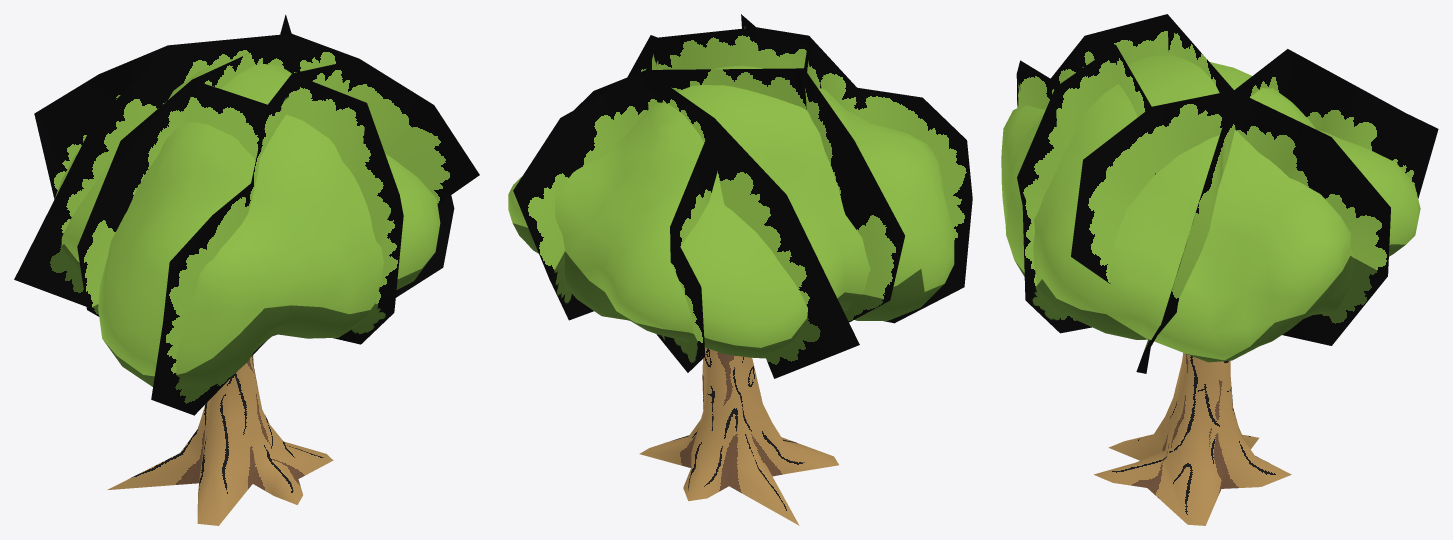
The model's file is TreeLarge.glb.
3 views of the same model, side by side, from view 1: azimuth 30°, elevation 25°; view 2: azimuth 150°, elevation 25°; view 3: azimuth 270°, elevation 25° (orthographic). The views are drawn at different scales.
Visible parts, largest first — view 1: Plane, Cube, Tree Large; view 2: Cube, Plane, Tree Large; view 3: Cube, Plane, Tree Large.
Part boxes in pixels (x1,y1,x2,y2): Plane: (14, 14, 479, 415); Cube: (55, 59, 440, 388); Tree Large: (107, 355, 333, 525); Cube: (508, 65, 954, 358); Plane: (513, 14, 972, 378); Tree Large: (639, 347, 838, 525); Cube: (1001, 55, 1420, 362); Plane: (1016, 14, 1438, 373); Tree Large: (1094, 353, 1291, 525).
Size of the model in its own units: 10.38 by 11.62 by 10.22.
3 materials, 3 textured.
